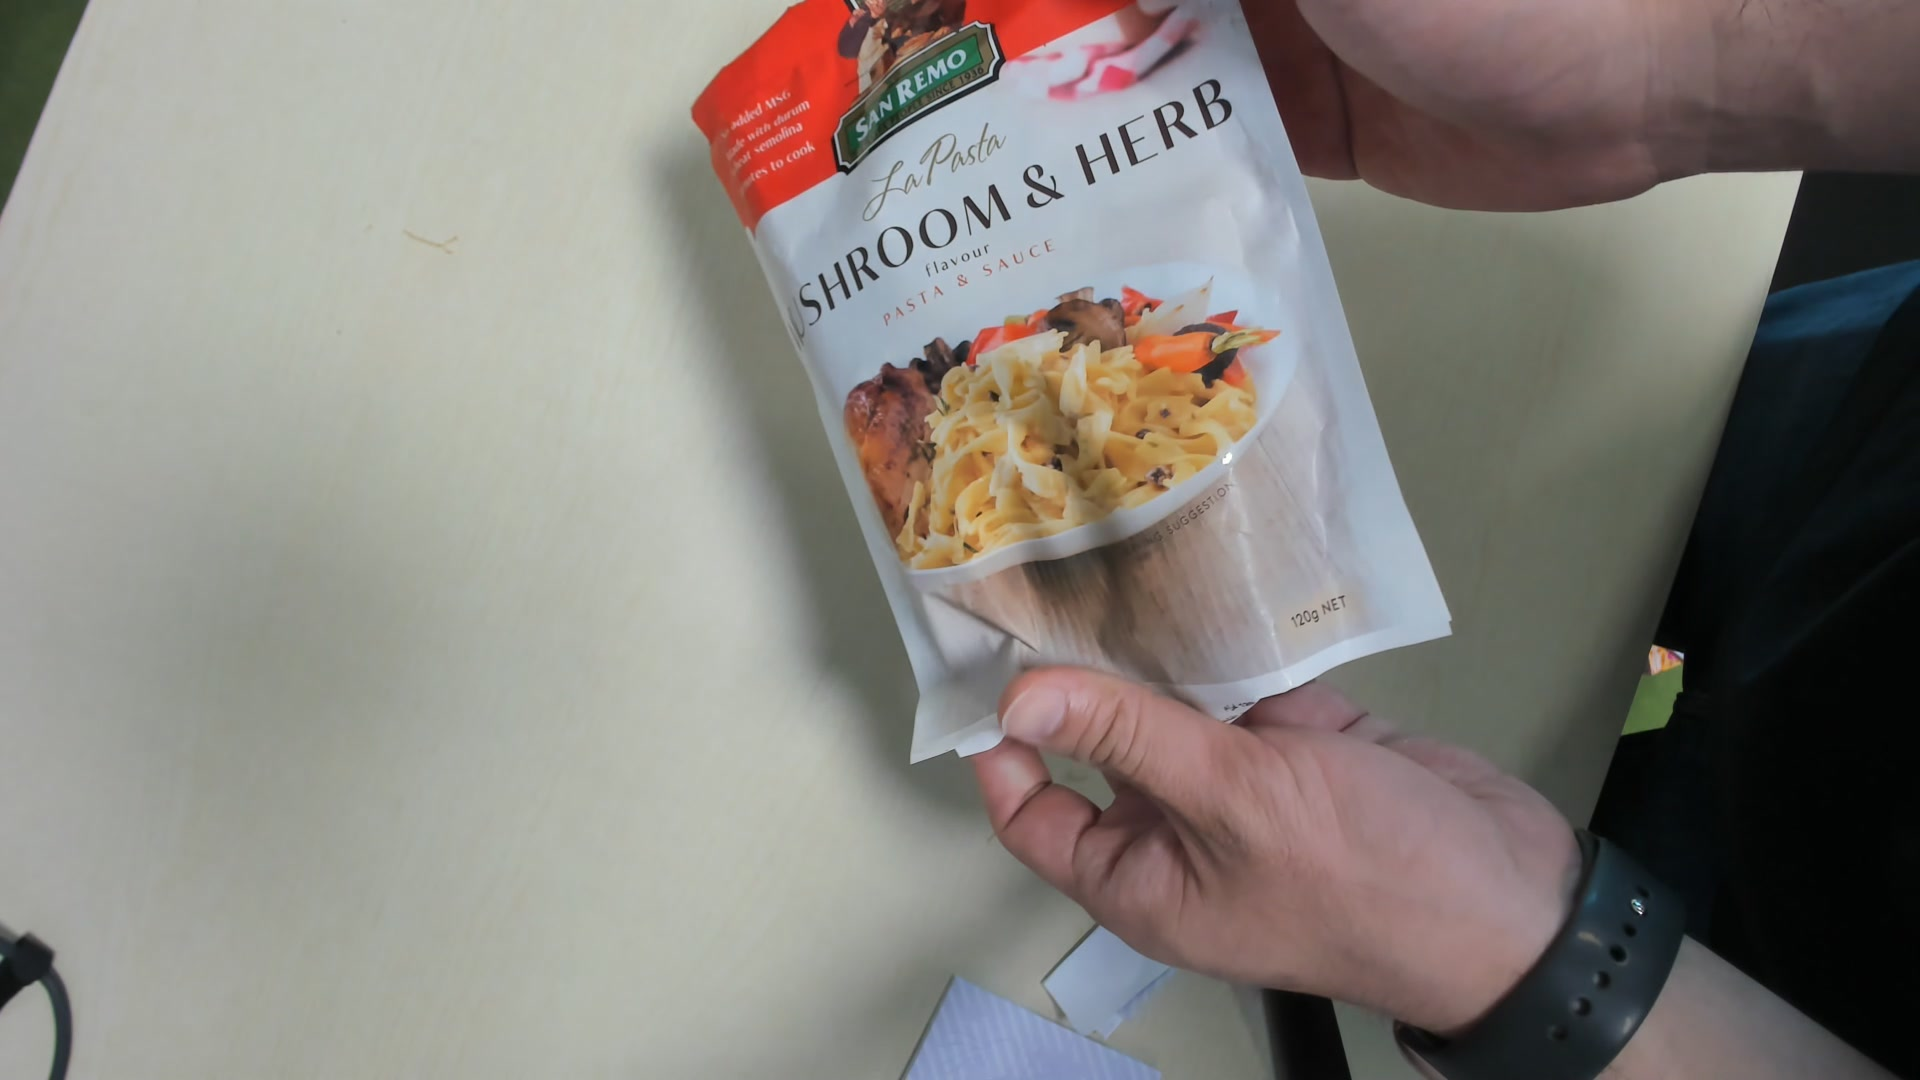InstantMeals_100-199g_NonHalal_Healthy: (698, 1, 1443, 760)
